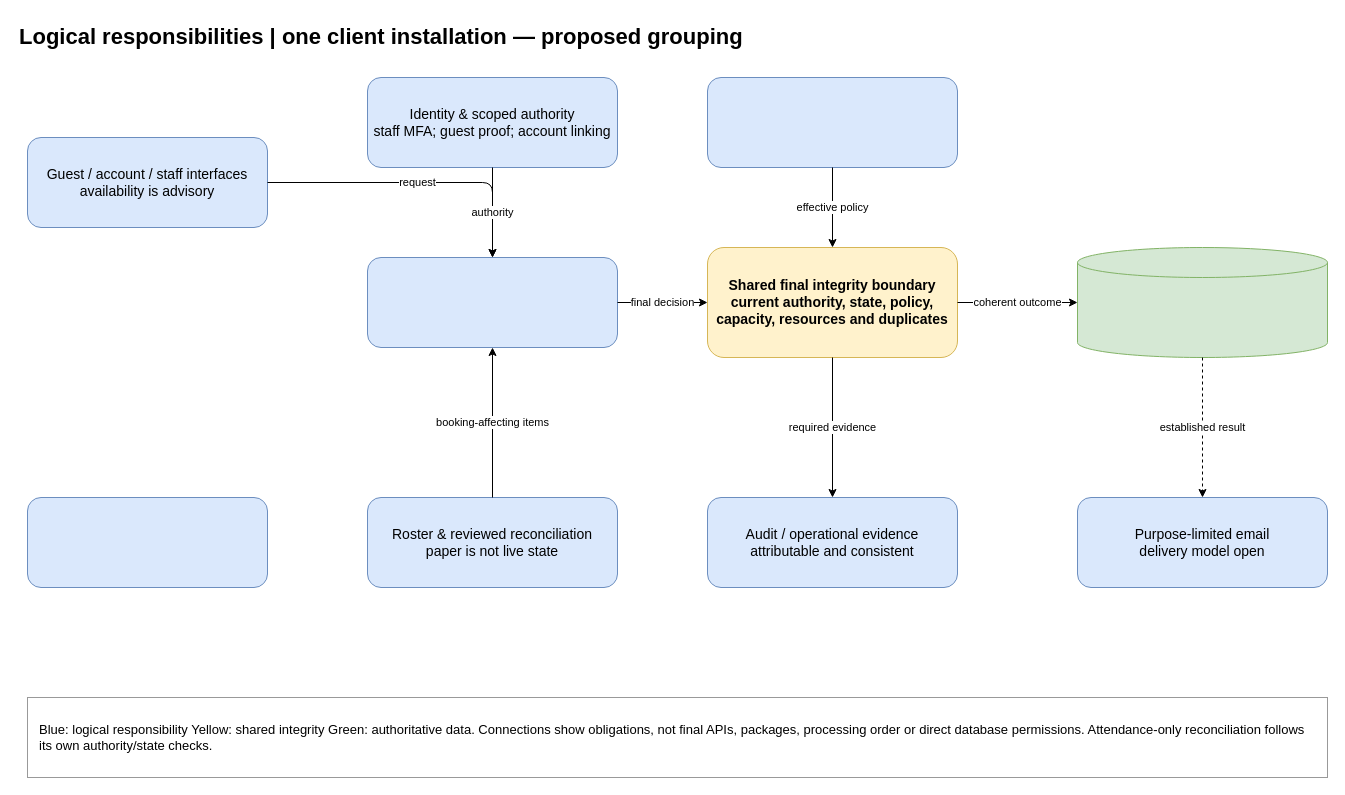
Image size: 1345x795. Some labels were removed from this diagram. The shapes that lost their labels are listed below. From the top down, each one's box as (x1, y1, x2, y2) in pixels, then its label:
(706, 76, 958, 168): Service & scheduling policy availability / capacity / resources
(366, 256, 618, 348): Appointment command coordination create / change / cancellation
(1076, 246, 1328, 358): Client-local authoritative state appointments + required evidence
(26, 496, 268, 588): QR lookup & attendance lookup ≠ authority or attendance
